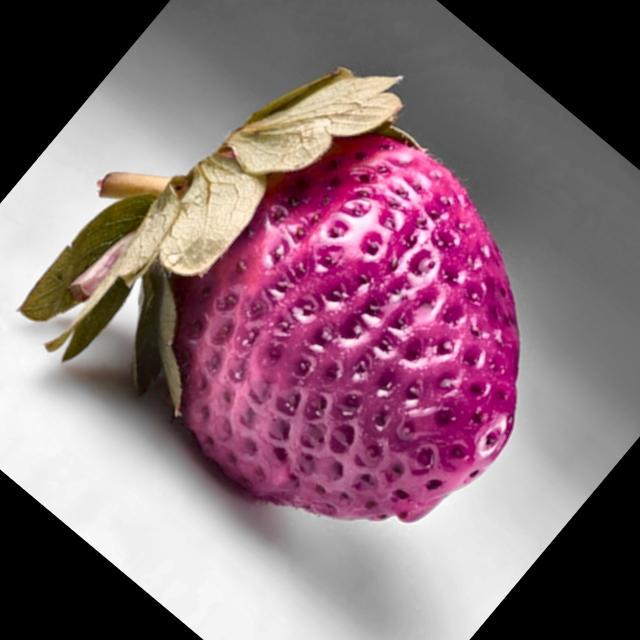strawberry: (20, 68, 519, 521)
